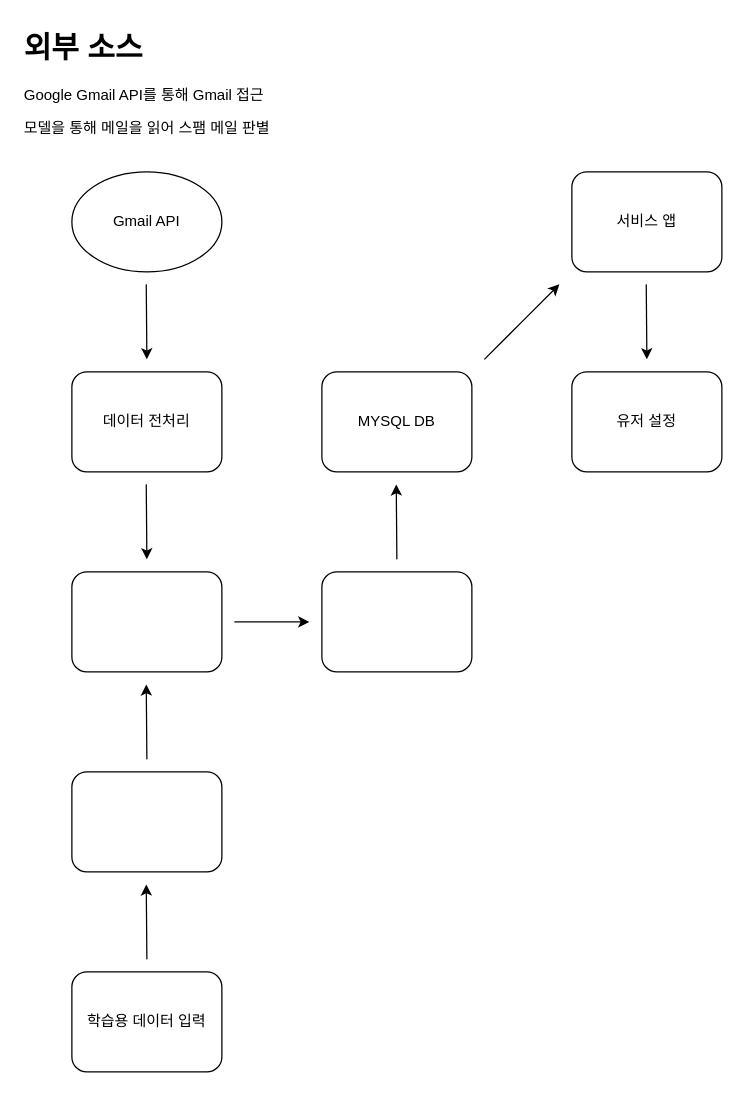
Image size: 744x1094. Some labels were removed from this diagram. Each missing label, with the box of its shape:
ML Model: (71, 771, 222, 872)
예측 결과: (321, 571, 472, 672)
완성된 ML Model: (71, 571, 222, 672)
